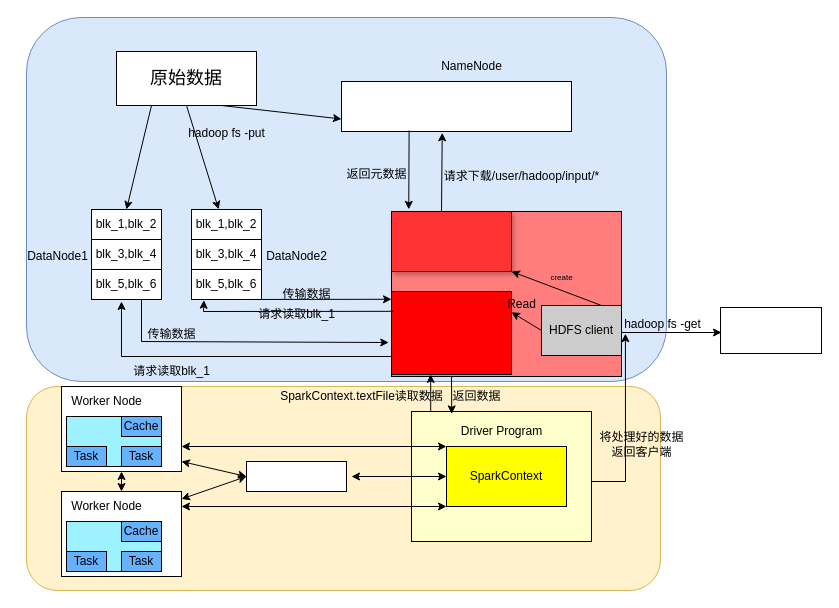
This 839x608 diagram has some shape labels left out. Each missing label, with the centre of its shape:
"Cluster Manager" belongs at [296,476].
"Distributed FileSystem" belongs at [452,242].
"FSDataOutputStream" belongs at [451,332].
"{blk_1,blk_2,blk_3,blk_4,blk_5,blk_6} {blk_1,blk_2,blk_3,blk_4,blk_5,blk_6}" belongs at [456,106].
"获取处理好的数据" belongs at [771,330].
